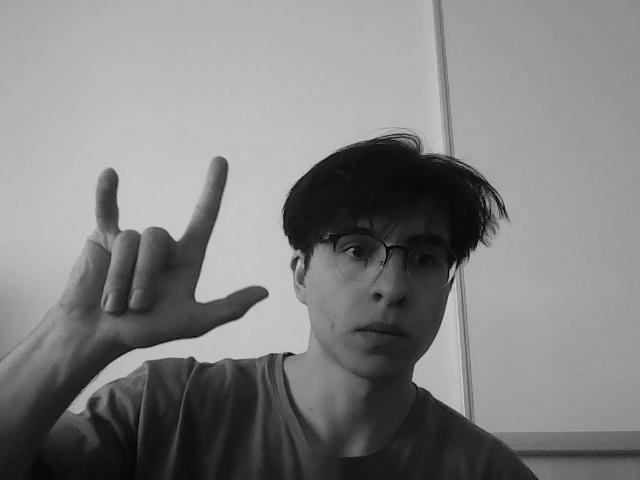I_Love_You: (76, 162, 256, 348)
